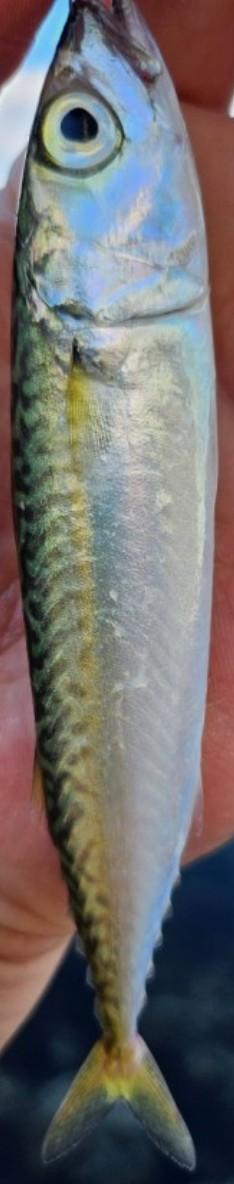fish: (12, 0, 216, 1183)
